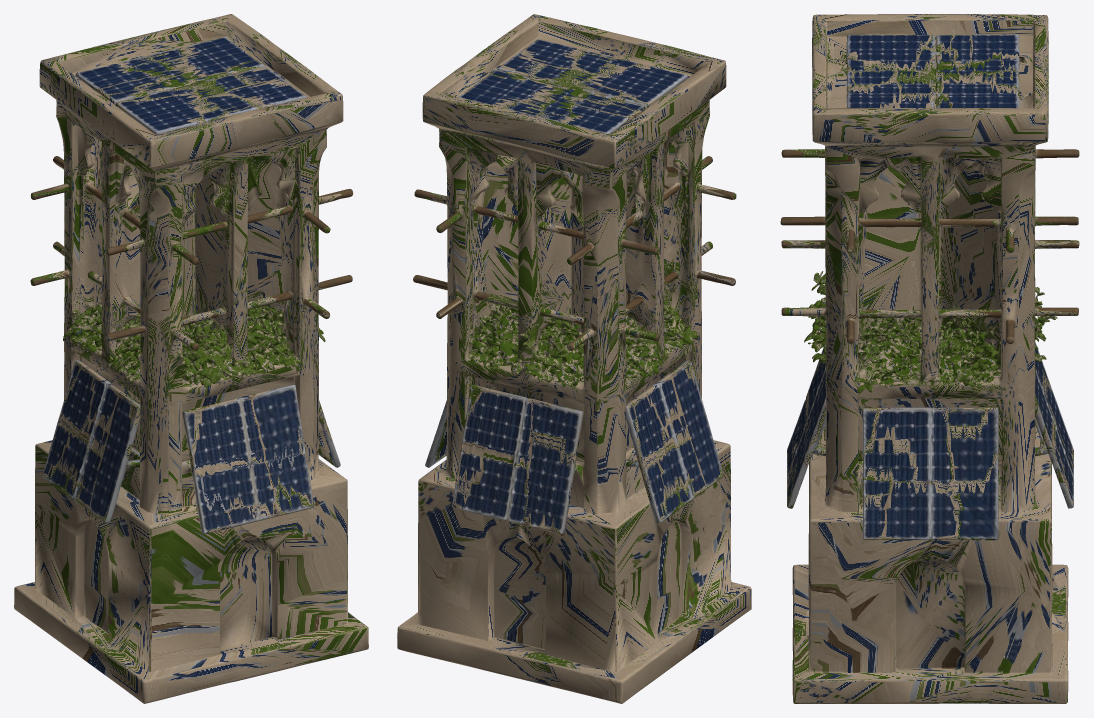
File: windtower.glb
The picture shows the model from 3 angles, left to right: view 1: azimuth 30°, elevation 25°; view 2: azimuth 150°, elevation 25°; view 3: azimuth 270°, elevation 25°; orthographic projection. The views are drawn at different scales.
Size of the model in its own units: 0.8823 by 1.9 by 0.8828.
Materials: 1 (1 with a texture image).
